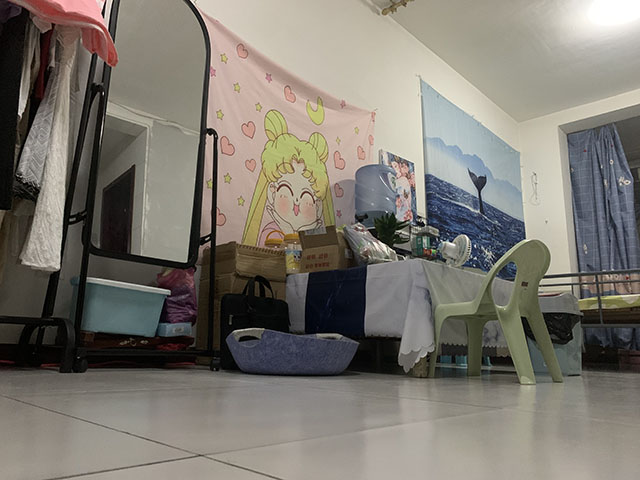cabinet: (192, 240, 287, 367)
stool: (427, 238, 565, 385)
table: (286, 257, 515, 379)
trashcan: (521, 290, 584, 377)
